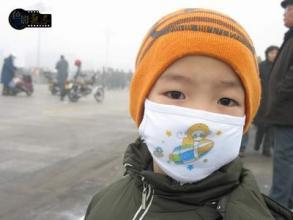OK: (142, 73, 244, 172)
